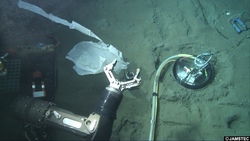plastic bag: (14, 1, 131, 75)
